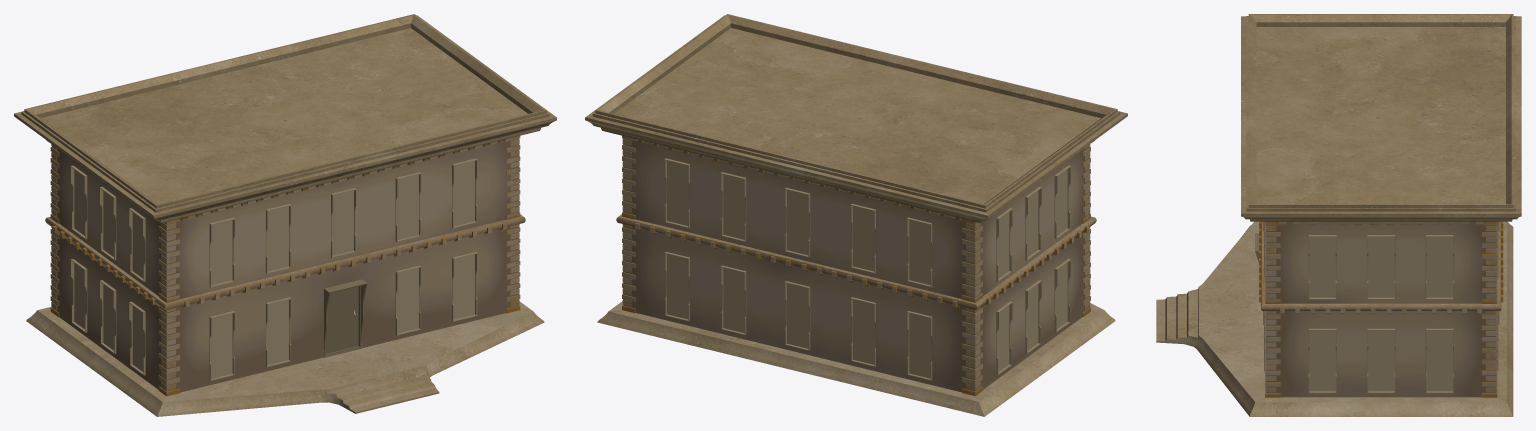
Rendered from House.obj.
3 views of the same model, side by side, from view 1: azimuth 30°, elevation 25°; view 2: azimuth 150°, elevation 25°; view 3: azimuth 270°, elevation 25° (orthographic).
Parts seen in each view (by area): view 1: House_Cube.002; view 2: House_Cube.002; view 3: House_Cube.002.
Boxes of the visible parts, left/top/right/bottom form: House_Cube.002: left=14, top=14, right=556, bottom=416; House_Cube.002: left=585, top=14, right=1127, bottom=416; House_Cube.002: left=1156, top=14, right=1521, bottom=416.
Size of the model in its own units: 13.21 by 6.63 by 10.32.
